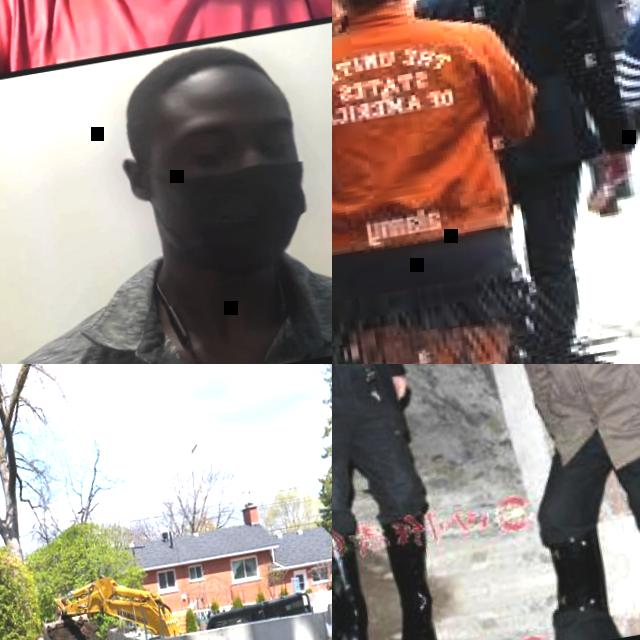NO-Hardhat: (117, 35, 294, 128), (35, 635, 46, 640)
NO-Mask: (145, 154, 326, 290)
NO-Safety Vest: (332, 4, 525, 248), (6, 258, 332, 364), (429, 0, 589, 170), (0, 0, 332, 72), (500, 364, 640, 463)
Person: (0, 8, 332, 364), (332, 0, 594, 364), (394, 0, 640, 364), (476, 364, 640, 593), (0, 0, 332, 101), (332, 364, 448, 640), (332, 0, 409, 364), (519, 0, 640, 227), (585, 0, 640, 364)
vehicle: (32, 563, 184, 640), (204, 592, 315, 635)
